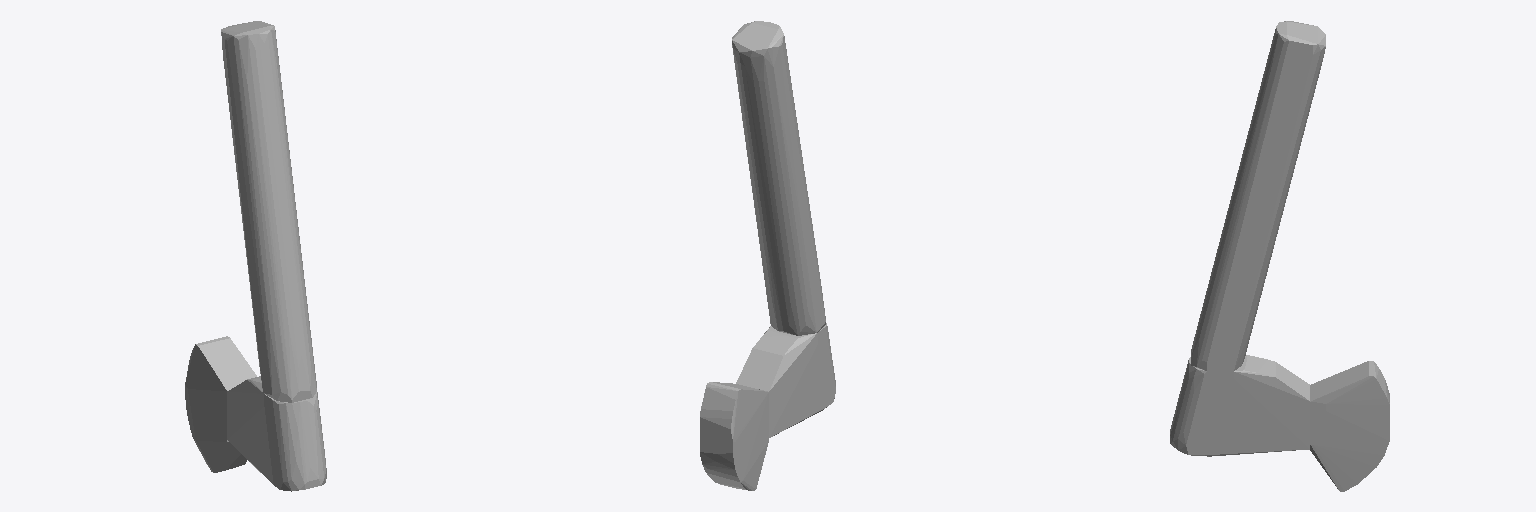
robot.urdf — root:
<robot name="root">
  <link name="link_c254012d3fa43be316fc216afe3ffc61_convex_piece_0">
    <inertial>
      <origin rpy="0 0 0" xyz="0 0 0"/>
      <mass value="5.63E-06"/>
      <inertia ixx="3.38E-09" ixy="3.56E-12" ixz="9.47E-12" iyy="3.15E-09" iyz="1.57E-10" izz="3.10E-10"/>
    </inertial>
    <visual>
      <origin rpy="0 0 0" xyz="0 0 0"/>
      <geometry>
        <mesh filename="c254012d3fa43be316fc216afe3ffc61_convex_piece_0.obj" scale="1.0000E+00"/>
      </geometry>
      <material name="">
        <color rgba="7.50E-01 7.50E-01 7.50E-01 1"/>
      </material>
    </visual>
    <collision>
      <origin rpy="0 0 0" xyz="0 0 0"/>
      <geometry>
        <mesh filename="c254012d3fa43be316fc216afe3ffc61_convex_piece_0.obj" scale="1.0000E+00"/>
      </geometry>
    </collision>
  </link>
  <link name="link_c254012d3fa43be316fc216afe3ffc61_convex_piece_1">
    <inertial>
      <origin rpy="0 0 0" xyz="0 0 0"/>
      <mass value="3.41E-06"/>
      <inertia ixx="4.23E-09" ixy="3.81E-12" ixz="-1.37E-12" iyy="3.85E-09" iyz="9.13E-10" izz="4.32E-10"/>
    </inertial>
    <visual>
      <origin rpy="0 0 0" xyz="0 0 0"/>
      <geometry>
        <mesh filename="c254012d3fa43be316fc216afe3ffc61_convex_piece_1.obj" scale="1.0000E+00"/>
      </geometry>
      <material name="">
        <color rgba="7.50E-01 7.50E-01 7.50E-01 1"/>
      </material>
    </visual>
    <collision>
      <origin rpy="0 0 0" xyz="0 0 0"/>
      <geometry>
        <mesh filename="c254012d3fa43be316fc216afe3ffc61_convex_piece_1.obj" scale="1.0000E+00"/>
      </geometry>
    </collision>
  </link>
  <joint name="link_c254012d3fa43be316fc216afe3ffc61_convex_piece_1_joint" type="fixed">
    <origin rpy="0 0 0" xyz="0 0 0"/>
    <parent link="link_c254012d3fa43be316fc216afe3ffc61_convex_piece_0"/>
    <child link="link_c254012d3fa43be316fc216afe3ffc61_convex_piece_1"/>
  </joint>
  <link name="link_c254012d3fa43be316fc216afe3ffc61_convex_piece_2">
    <inertial>
      <origin rpy="0 0 0" xyz="0 0 0"/>
      <mass value="1.97E-06"/>
      <inertia ixx="3.23E-09" ixy="3.55E-12" ixz="-7.35E-12" iyy="2.80E-09" iyz="-1.14E-09" izz="4.52E-10"/>
    </inertial>
    <visual>
      <origin rpy="0 0 0" xyz="0 0 0"/>
      <geometry>
        <mesh filename="c254012d3fa43be316fc216afe3ffc61_convex_piece_2.obj" scale="1.0000E+00"/>
      </geometry>
      <material name="">
        <color rgba="7.50E-01 7.50E-01 7.50E-01 1"/>
      </material>
    </visual>
    <collision>
      <origin rpy="0 0 0" xyz="0 0 0"/>
      <geometry>
        <mesh filename="c254012d3fa43be316fc216afe3ffc61_convex_piece_2.obj" scale="1.0000E+00"/>
      </geometry>
    </collision>
  </link>
  <joint name="link_c254012d3fa43be316fc216afe3ffc61_convex_piece_2_joint" type="fixed">
    <origin rpy="0 0 0" xyz="0 0 0"/>
    <parent link="link_c254012d3fa43be316fc216afe3ffc61_convex_piece_1"/>
    <child link="link_c254012d3fa43be316fc216afe3ffc61_convex_piece_2"/>
  </joint>
</robot>

--- What the picture shows (computed from the rendered views, not written in the file) ---
Views: 3 orthographic renders of the robot side by side, from view 1: azimuth 30°, elevation 25°; view 2: azimuth 150°, elevation 25°; view 3: azimuth 270°, elevation 25°.
Model root with 3 links and 2 joints (2 fixed), rooted at link_c254012d3fa43be316fc216afe3ffc61_convex_piece_0, posed all joints at 0.
Visible links, largest first — view 1: link_c254012d3fa43be316fc216afe3ffc61_convex_piece_0, link_c254012d3fa43be316fc216afe3ffc61_convex_piece_1, link_c254012d3fa43be316fc216afe3ffc61_convex_piece_2; view 2: link_c254012d3fa43be316fc216afe3ffc61_convex_piece_0, link_c254012d3fa43be316fc216afe3ffc61_convex_piece_1, link_c254012d3fa43be316fc216afe3ffc61_convex_piece_2; view 3: link_c254012d3fa43be316fc216afe3ffc61_convex_piece_0, link_c254012d3fa43be316fc216afe3ffc61_convex_piece_1, link_c254012d3fa43be316fc216afe3ffc61_convex_piece_2.
Boxes of the visible links, x1,y1,x2,y2 form: link_c254012d3fa43be316fc216afe3ffc61_convex_piece_0: [221, 21, 316, 402]; link_c254012d3fa43be316fc216afe3ffc61_convex_piece_1: [227, 376, 326, 491]; link_c254012d3fa43be316fc216afe3ffc61_convex_piece_2: [185, 336, 256, 472]; link_c254012d3fa43be316fc216afe3ffc61_convex_piece_0: [732, 21, 825, 335]; link_c254012d3fa43be316fc216afe3ffc61_convex_piece_1: [736, 323, 835, 437]; link_c254012d3fa43be316fc216afe3ffc61_convex_piece_2: [700, 382, 768, 490]; link_c254012d3fa43be316fc216afe3ffc61_convex_piece_0: [1191, 21, 1325, 370]; link_c254012d3fa43be316fc216afe3ffc61_convex_piece_1: [1170, 355, 1309, 456]; link_c254012d3fa43be316fc216afe3ffc61_convex_piece_2: [1310, 361, 1389, 491].
Size in the robot's own frame: 0.0104 by 0.0455 by 0.104 metres.
3 mesh visuals loaded from 3 distinct referenced files (3 OBJ).